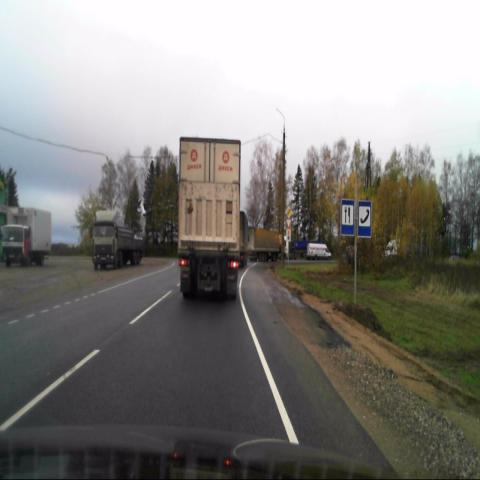7_6: (358, 202, 372, 237)
7_7: (340, 199, 354, 236)
